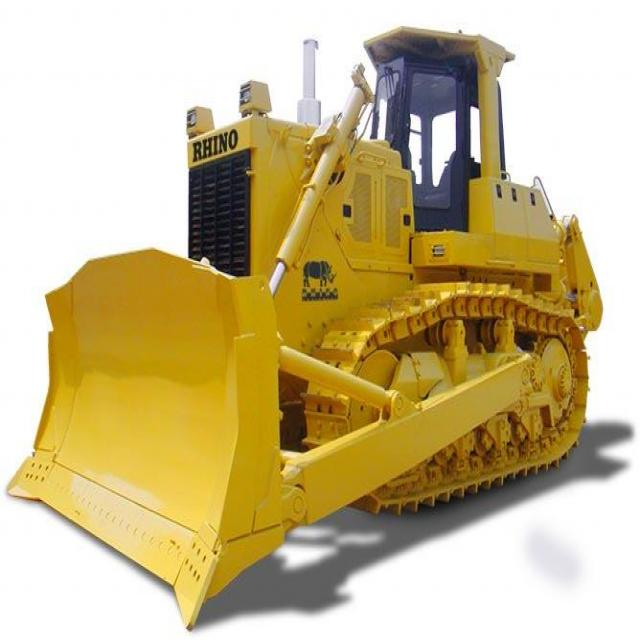Bulldozer: (11, 21, 611, 638)
